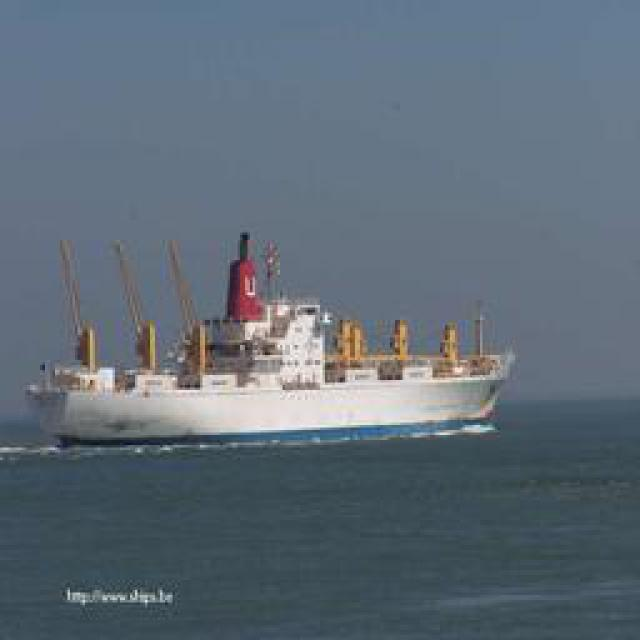Ship: (18, 226, 523, 456)
